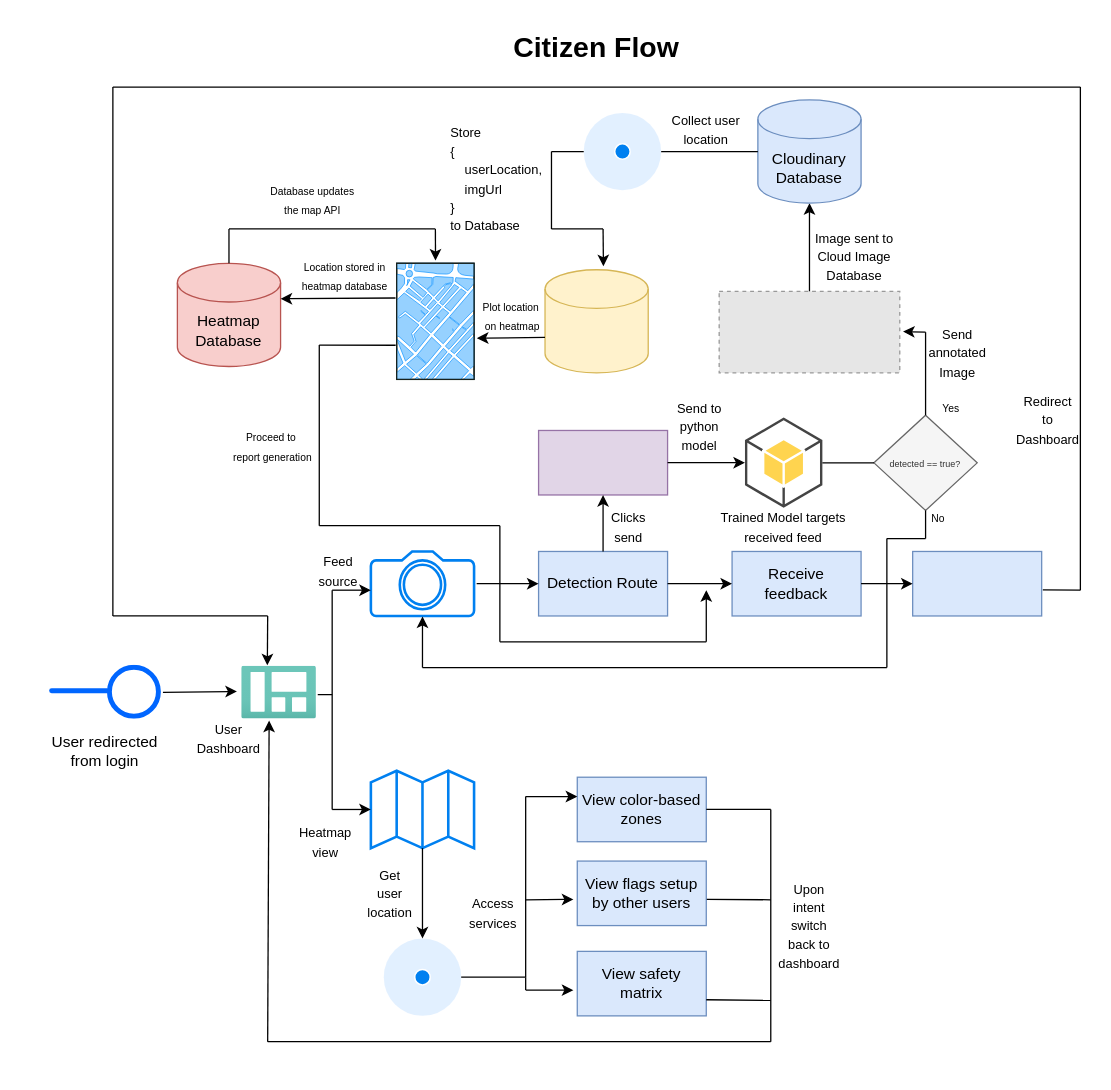
Image size: 1111x1090. Some labels were removed from this diagram. Grey dashed boxes stand in for pictures. Here are the shapes that lost their labels. From the top down, the centre of each, then its label:
point 596,320: Database
point 602,462: .post("/detect")
point 976,583: Gamified Rewards
